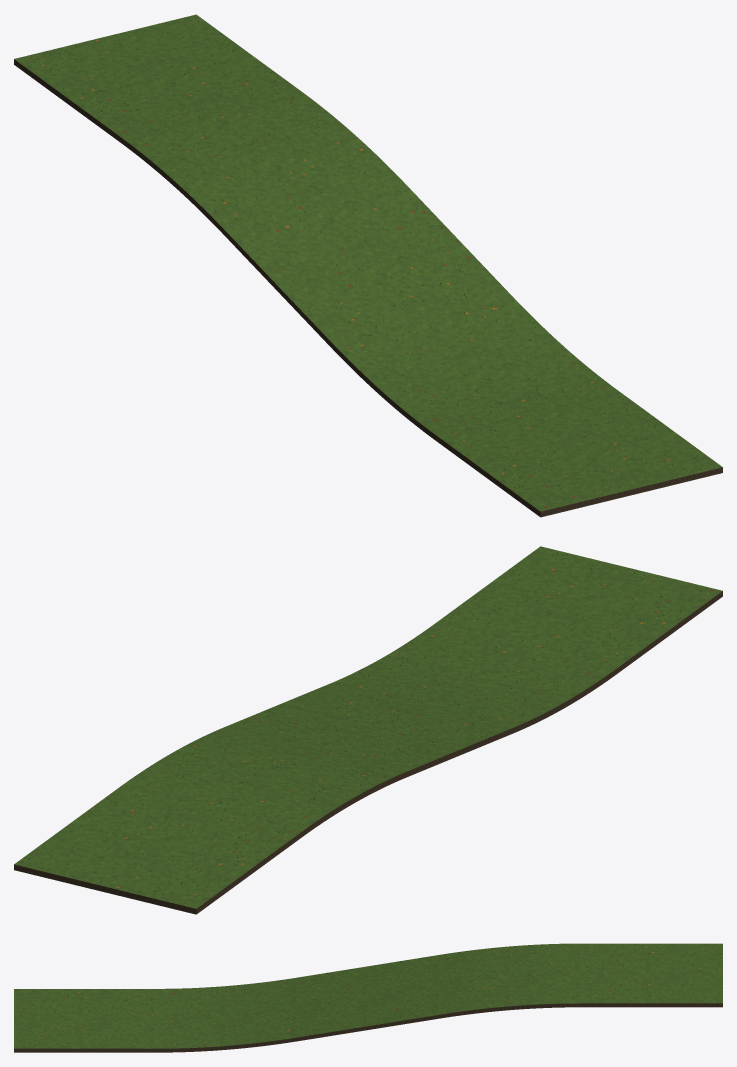
3 renders of one model, top to bottom at view 1: azimuth 30°, elevation 25°; view 2: azimuth 150°, elevation 25°; view 3: azimuth 270°, elevation 25°, orthographic. The views are drawn at different scales.
Parts seen in each view (by area): view 1: VIS_TILE_02_slope10__VIS_LawnSurface, VIS_TILE_01_toe__VIS_LawnSurface, VIS_TILE_03_crest__VIS_LawnSurface, VIS_TILE_00_flat__VIS_LawnSurface, VIS_TILE_04_flat__VIS_LawnSurface, VIS_TILE_00_flat__VIS_OrganicSoilSkirt; view 2: VIS_TILE_00_flat__VIS_LawnSurface, VIS_TILE_04_flat__VIS_LawnSurface, VIS_TILE_01_toe__VIS_LawnSurface, VIS_TILE_03_crest__VIS_LawnSurface, VIS_TILE_02_slope10__VIS_LawnSurface, VIS_TILE_04_flat__VIS_OrganicSoilSkirt, VIS_TILE_02_slope10__VIS_OrganicSoilSkirt, VIS_TILE_03_crest__VIS_OrganicSoilSkirt, VIS_TILE_00_flat__VIS_OrganicSoilSkirt, VIS_TILE_01_toe__VIS_OrganicSoilSkirt; view 3: VIS_TILE_03_crest__VIS_LawnSurface, VIS_TILE_01_toe__VIS_LawnSurface, VIS_TILE_04_flat__VIS_LawnSurface, VIS_TILE_02_slope10__VIS_LawnSurface, VIS_TILE_00_flat__VIS_LawnSurface, VIS_TILE_00_flat__VIS_OrganicSoilSkirt, VIS_TILE_04_flat__VIS_OrganicSoilSkirt, VIS_TILE_01_toe__VIS_OrganicSoilSkirt, VIS_TILE_03_crest__VIS_OrganicSoilSkirt, VIS_TILE_02_slope10__VIS_OrganicSoilSkirt.
Boxes of the visible parts, x1=… form: VIS_TILE_02_slope10__VIS_LawnSurface: x1=225, y1=185, x2=511, y2=340; VIS_TILE_01_toe__VIS_LawnSurface: x1=330, y1=296, x2=617, y2=434; VIS_TILE_03_crest__VIS_LawnSurface: x1=119, y1=91, x2=406, y2=229; VIS_TILE_00_flat__VIS_LawnSurface: x1=435, y1=390, x2=722, y2=511; VIS_TILE_04_flat__VIS_LawnSurface: x1=14, y1=14, x2=301, y2=135; VIS_TILE_00_flat__VIS_OrganicSoilSkirt: x1=435, y1=435, x2=722, y2=517; VIS_TILE_00_flat__VIS_LawnSurface: x1=435, y1=546, x2=722, y2=667; VIS_TILE_04_flat__VIS_LawnSurface: x1=14, y1=787, x2=301, y2=908; VIS_TILE_01_toe__VIS_LawnSurface: x1=330, y1=623, x2=616, y2=727; VIS_TILE_03_crest__VIS_LawnSurface: x1=120, y1=727, x2=406, y2=831; VIS_TILE_02_slope10__VIS_LawnSurface: x1=225, y1=683, x2=511, y2=771; VIS_TILE_04_flat__VIS_OrganicSoilSkirt: x1=14, y1=832, x2=301, y2=914; VIS_TILE_02_slope10__VIS_OrganicSoilSkirt: x1=407, y1=728, x2=512, y2=776; VIS_TILE_03_crest__VIS_OrganicSoilSkirt: x1=301, y1=772, x2=406, y2=837; VIS_TILE_00_flat__VIS_OrganicSoilSkirt: x1=617, y1=591, x2=722, y2=673; VIS_TILE_01_toe__VIS_OrganicSoilSkirt: x1=512, y1=668, x2=617, y2=733; VIS_TILE_03_crest__VIS_LawnSurface: x1=439, y1=943, x2=581, y2=1014; VIS_TILE_01_toe__VIS_LawnSurface: x1=155, y1=977, x2=297, y2=1048; VIS_TILE_04_flat__VIS_LawnSurface: x1=581, y1=943, x2=722, y2=1003; VIS_TILE_02_slope10__VIS_LawnSurface: x1=297, y1=955, x2=439, y2=1037; VIS_TILE_00_flat__VIS_LawnSurface: x1=14, y1=989, x2=155, y2=1048; VIS_TILE_00_flat__VIS_OrganicSoilSkirt: x1=14, y1=1048, x2=155, y2=1052; VIS_TILE_04_flat__VIS_OrganicSoilSkirt: x1=581, y1=1003, x2=722, y2=1007; VIS_TILE_01_toe__VIS_OrganicSoilSkirt: x1=155, y1=1037, x2=297, y2=1052; VIS_TILE_03_crest__VIS_OrganicSoilSkirt: x1=439, y1=1003, x2=581, y2=1018; VIS_TILE_02_slope10__VIS_OrganicSoilSkirt: x1=297, y1=1015, x2=439, y2=1041.
Bounding box in the file's own units: 4 × 1.58 × 20.
Materials: 6 (6 with a texture image).
